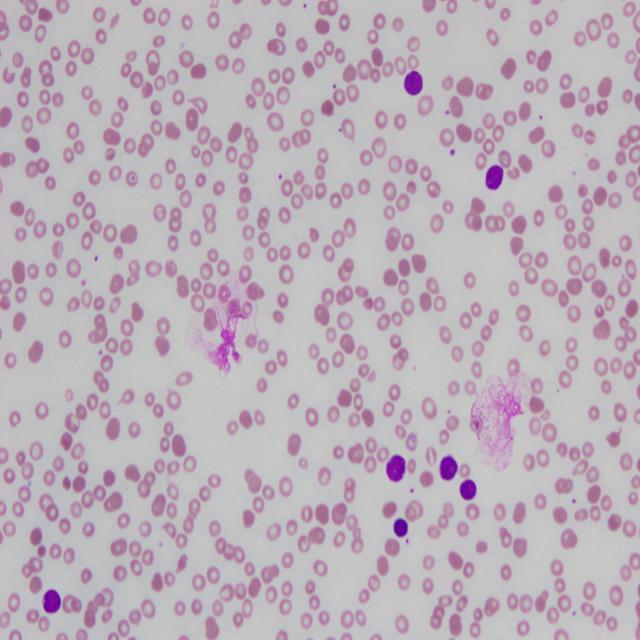cell: (386, 455, 405, 482), (485, 165, 504, 190), (404, 70, 422, 95), (440, 455, 458, 480), (42, 590, 61, 613), (460, 478, 476, 500), (394, 518, 408, 537)
